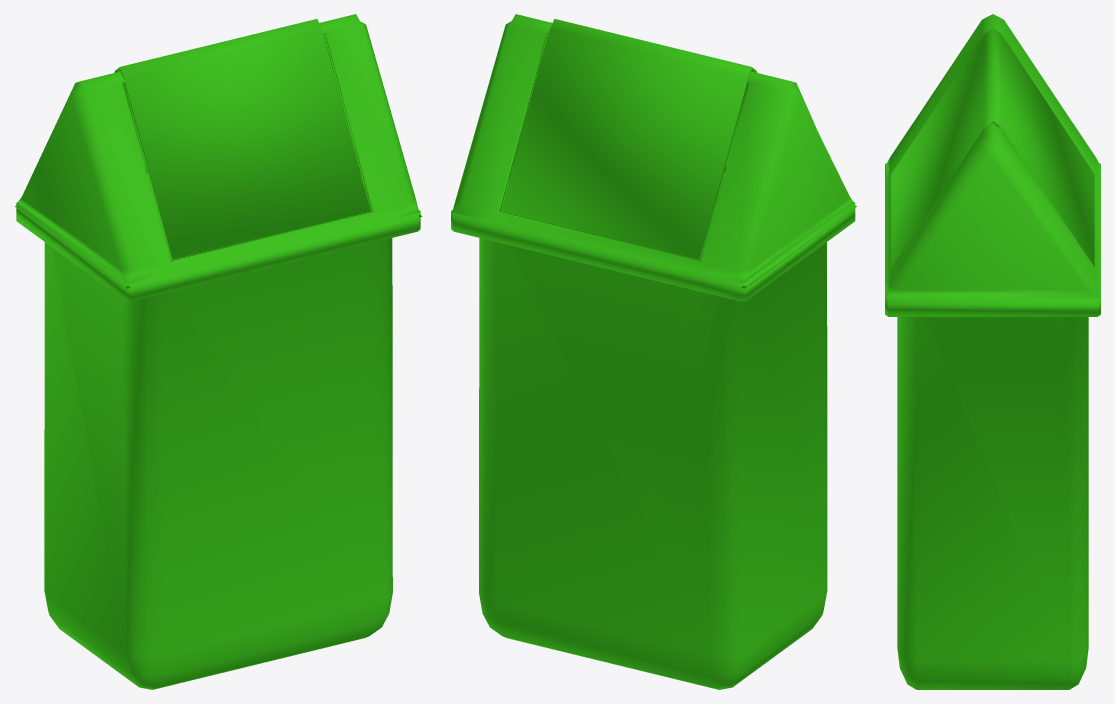
The model's file is Lixo_Pia.fbx.
The picture shows the model from 3 angles, left to right: view 1: azimuth 30°, elevation 25°; view 2: azimuth 150°, elevation 25°; view 3: azimuth 270°, elevation 25°; orthographic projection. The views are drawn at different scales.
Parts seen in each view (by area): view 1: Cube, Plane, Cube.001; view 2: Cube, Plane, Cube.001; view 3: Cube, Cube.001, Plane.
Boxes of the visible parts, x1,y1,x2,y2 form: Cube: [44, 171, 392, 689]; Plane: [114, 19, 370, 259]; Cube.001: [14, 14, 422, 301]; Cube: [479, 171, 827, 689]; Plane: [501, 19, 757, 259]; Cube.001: [451, 14, 856, 301]; Cube: [897, 317, 1088, 689]; Cube.001: [885, 14, 1100, 316]; Plane: [891, 28, 1094, 266].
Size of the model in its own units: 528 by 1011 by 349.
